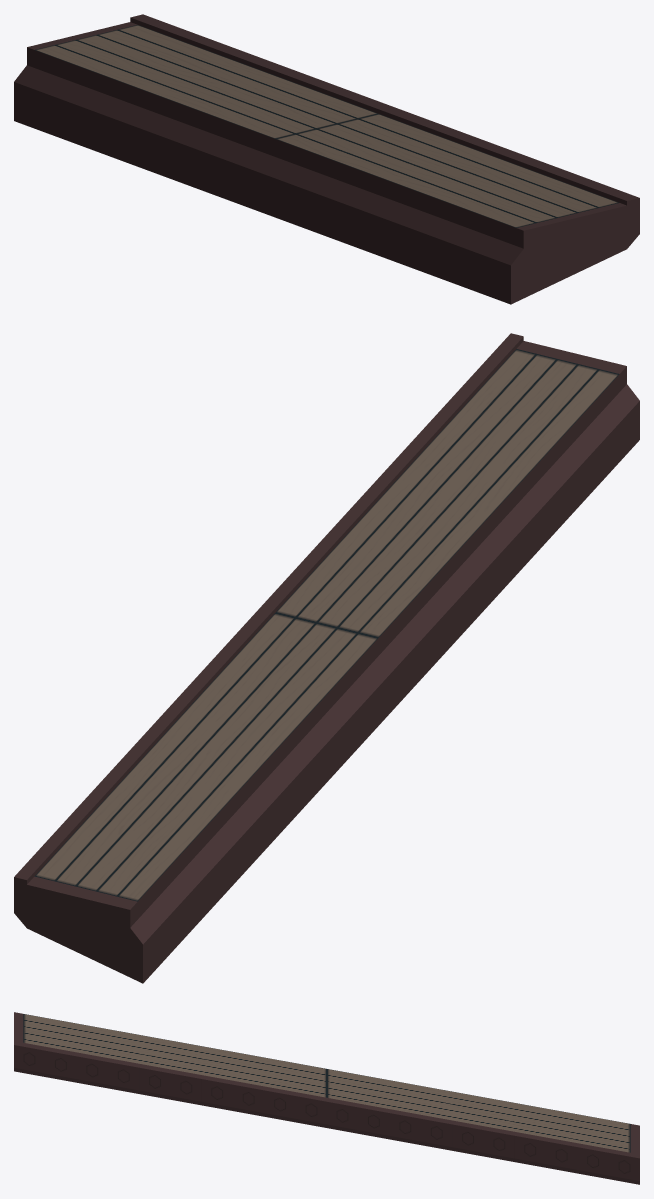
File: SW_ENV_EL_TrackBase_Walkway_Rise_Side_10m.fbx
3 views of the same model, one above another, from view 1: azimuth 30°, elevation 25°; view 2: azimuth 150°, elevation 25°; view 3: azimuth 270°, elevation 25° (orthographic). The views are drawn at different scales.
Visible parts, largest first — view 1: SW_ENV_EL_TrackBase_Walkway_Rise_Side_10m; view 2: SW_ENV_EL_TrackBase_Walkway_Rise_Side_10m; view 3: SW_ENV_EL_TrackBase_Walkway_Rise_Side_10m.
Boxes of the visible parts, bbox=[...] form: SW_ENV_EL_TrackBase_Walkway_Rise_Side_10m: bbox=[14, 14, 639, 304]; SW_ENV_EL_TrackBase_Walkway_Rise_Side_10m: bbox=[14, 333, 639, 983]; SW_ENV_EL_TrackBase_Walkway_Rise_Side_10m: bbox=[14, 1012, 639, 1184].
Size of the model in its own units: 150 by 283 by 1000.
